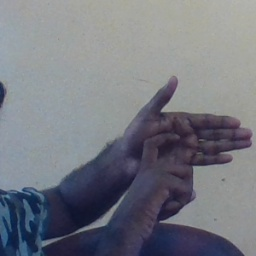R: (116, 74, 253, 222)
